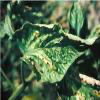Tomato Septoria leaf spot: (10, 21, 97, 82)
